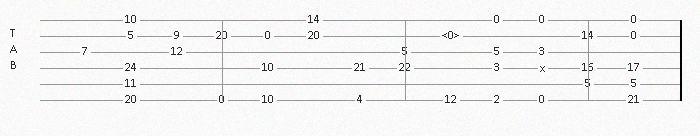0: (219, 94, 229, 106), (265, 30, 275, 42), (494, 14, 504, 26), (539, 14, 549, 26), (539, 94, 549, 106), (631, 14, 641, 26), (631, 30, 641, 42)
10: (125, 14, 141, 26), (262, 62, 278, 74), (262, 94, 278, 106)
11: (125, 78, 141, 90)
12: (171, 46, 187, 58), (445, 94, 461, 106)
14: (308, 14, 324, 26), (582, 30, 598, 42)
16: (582, 62, 598, 74)
17: (628, 62, 644, 74)
2: (494, 94, 504, 106)
20: (125, 94, 141, 106), (216, 30, 232, 42), (308, 30, 324, 42)
21: (354, 62, 370, 74), (628, 94, 644, 106)
22: (399, 62, 415, 74)
24: (125, 62, 141, 74)
3: (494, 62, 504, 74), (539, 46, 549, 58)
4: (357, 94, 367, 106)
5: (128, 30, 138, 42), (402, 46, 412, 58), (494, 46, 504, 58), (585, 78, 595, 90), (631, 78, 641, 90)
7: (82, 46, 92, 58)
9: (174, 30, 184, 42)
harmonic: (442, 30, 464, 42)
x: (540, 63, 549, 73)
